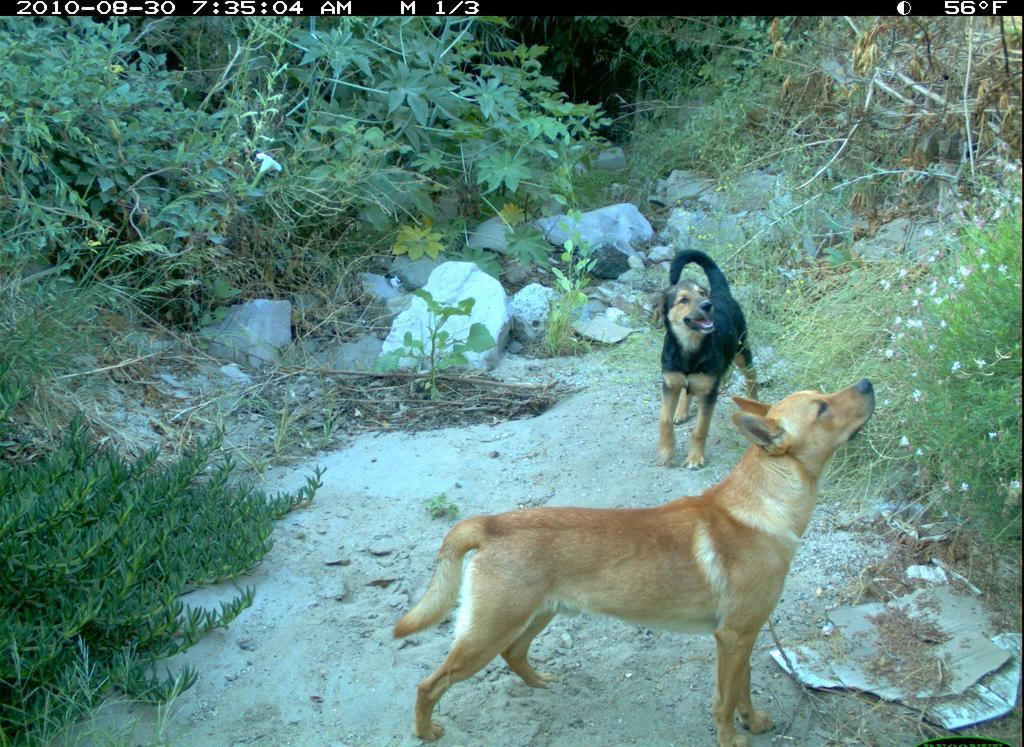dog: (383, 378, 885, 745), (644, 232, 776, 477)
